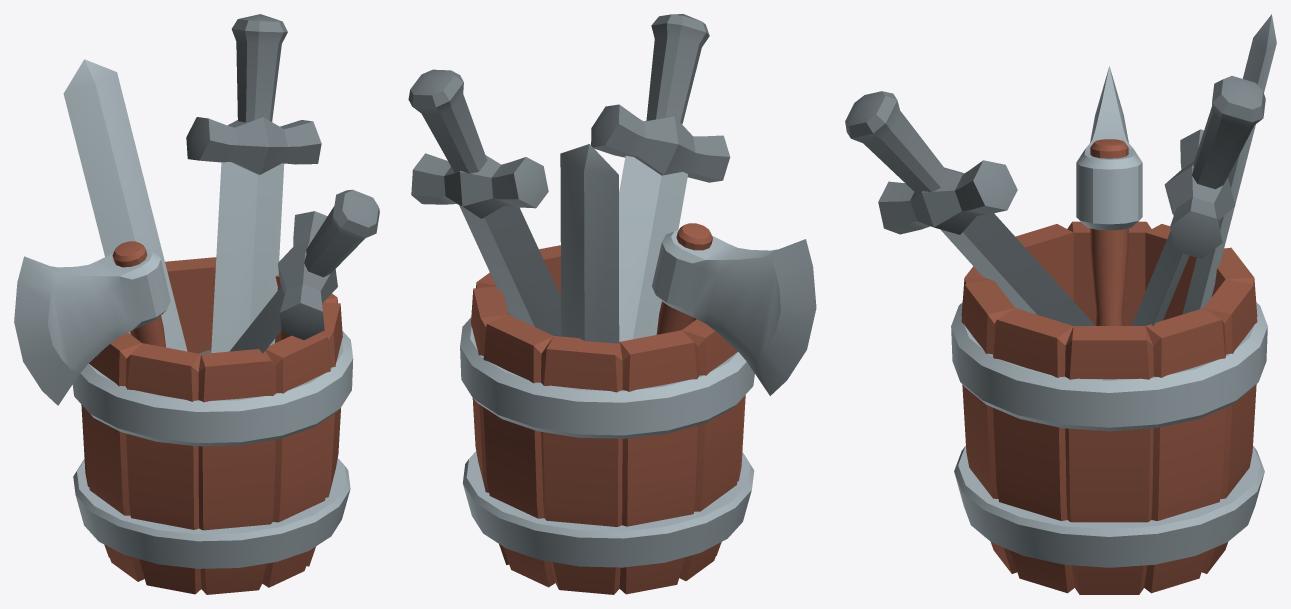
Rendered from weaponBucket.gltf.glb.
The picture shows the model from 3 angles, left to right: view 1: azimuth 30°, elevation 25°; view 2: azimuth 150°, elevation 25°; view 3: azimuth 270°, elevation 25°; orthographic projection. The views are drawn at different scales.
Parts seen in each view (by area): view 1: weaponBucket; view 2: weaponBucket; view 3: weaponBucket.
Part boxes in pixels (x1,y1,x2,y2): weaponBucket: (14, 14, 379, 594); weaponBucket: (408, 14, 816, 594); weaponBucket: (845, 14, 1276, 594).
Size of the model in its own units: 0.8053 by 1.06 by 0.7955.
